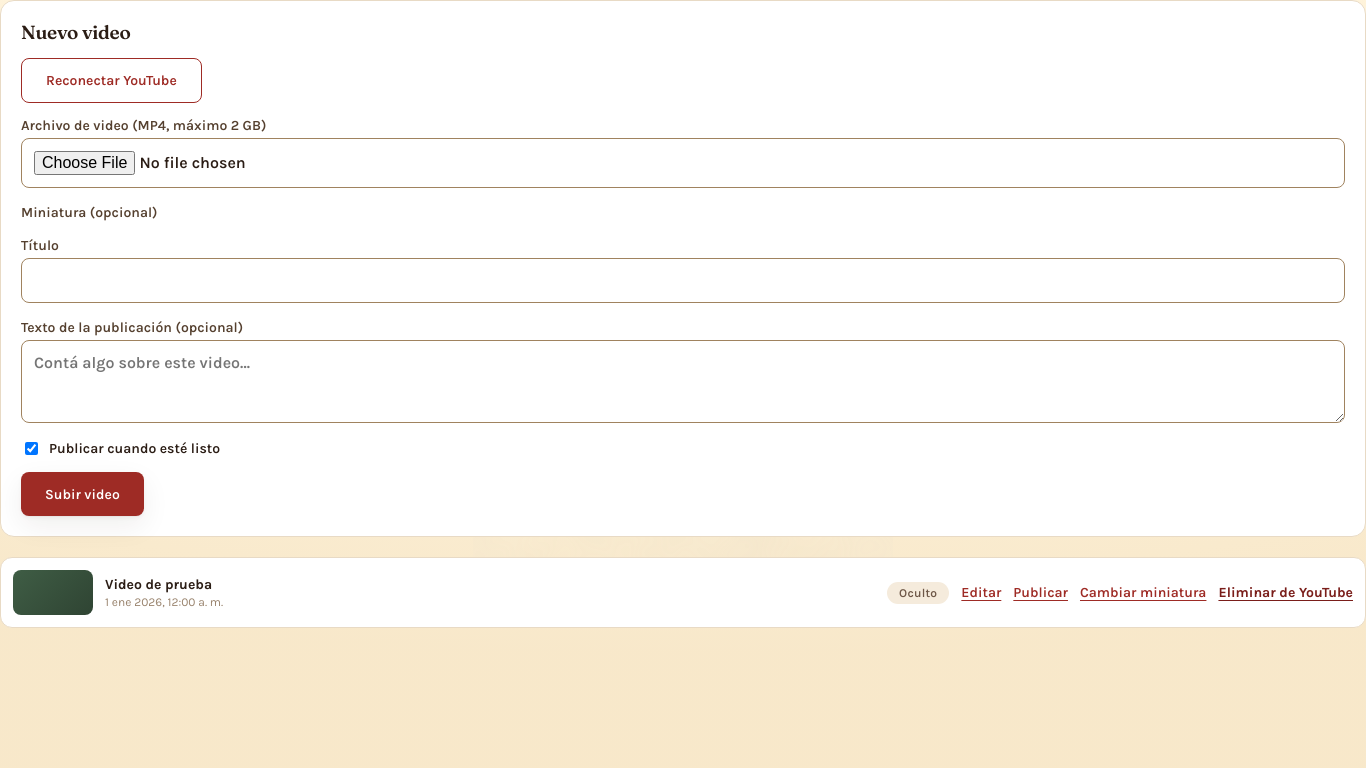
VideoManager estados terminales › distingue un video que aun se procesa de uno que no existe
Click the button "Publicar": (1041, 593) x1=1013 y1=584 x2=1068 y2=601
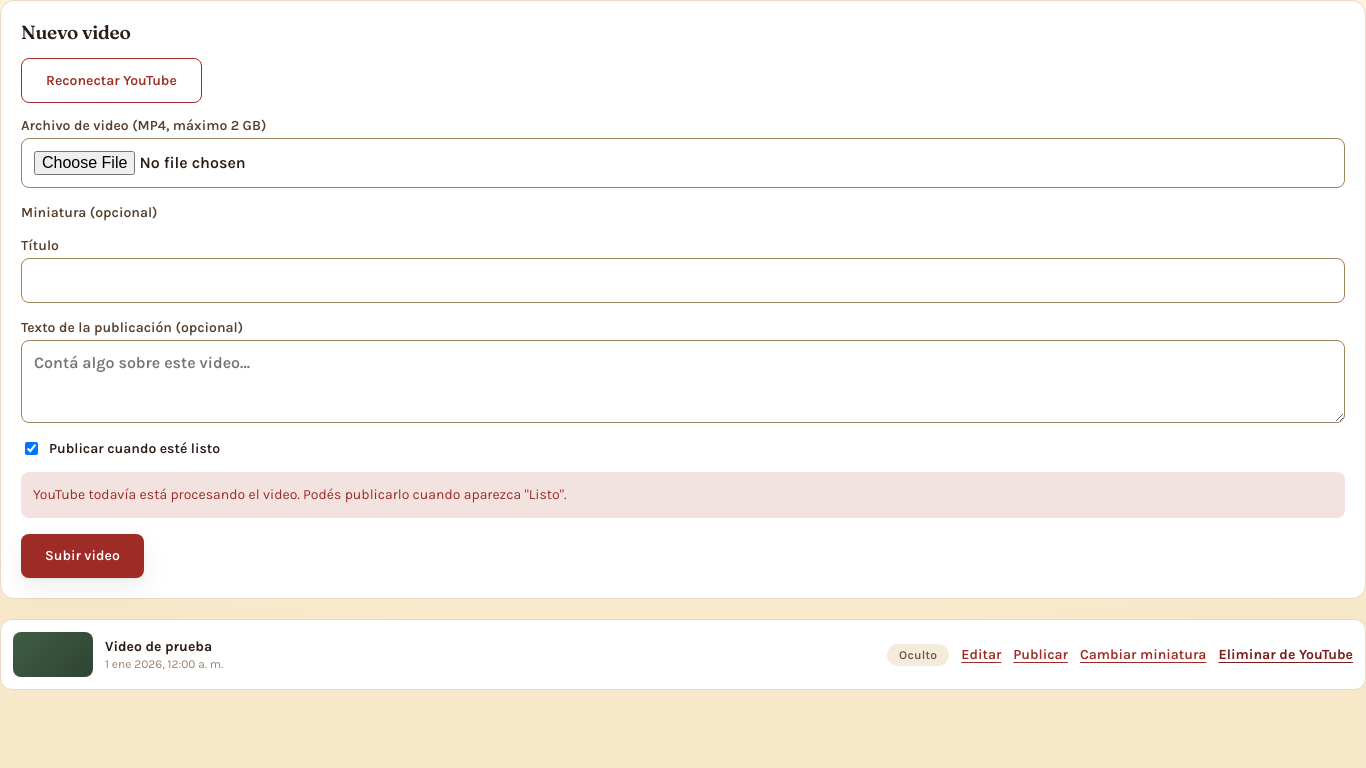
Check: the text "todavía está procesando" is shown, box x1=33 y1=486 x2=566 y2=503
